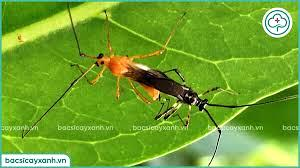Helopeltis-insect: (90, 44, 158, 106), (144, 75, 207, 124)
